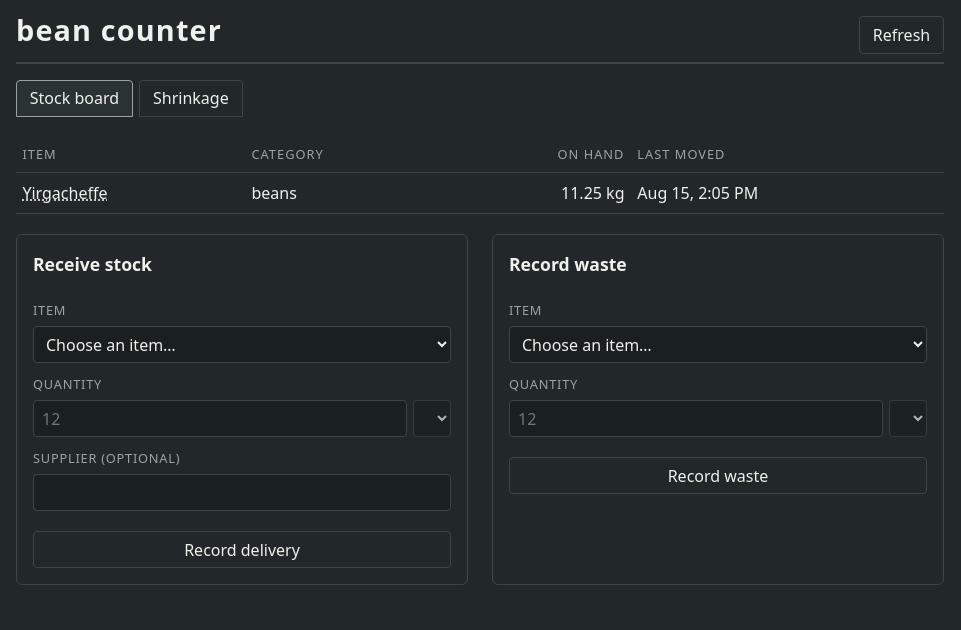
Test case: shrinkage report › treats an item with no counts as never counted, not as an error
expect the button "Yirgacheffe" is shown: met, box [22, 181, 108, 205]
What coordinates should you click on to do the following:
click the tab "Shrinkage"
I would click on:
 (191, 98)
Its box is [139, 80, 242, 117].
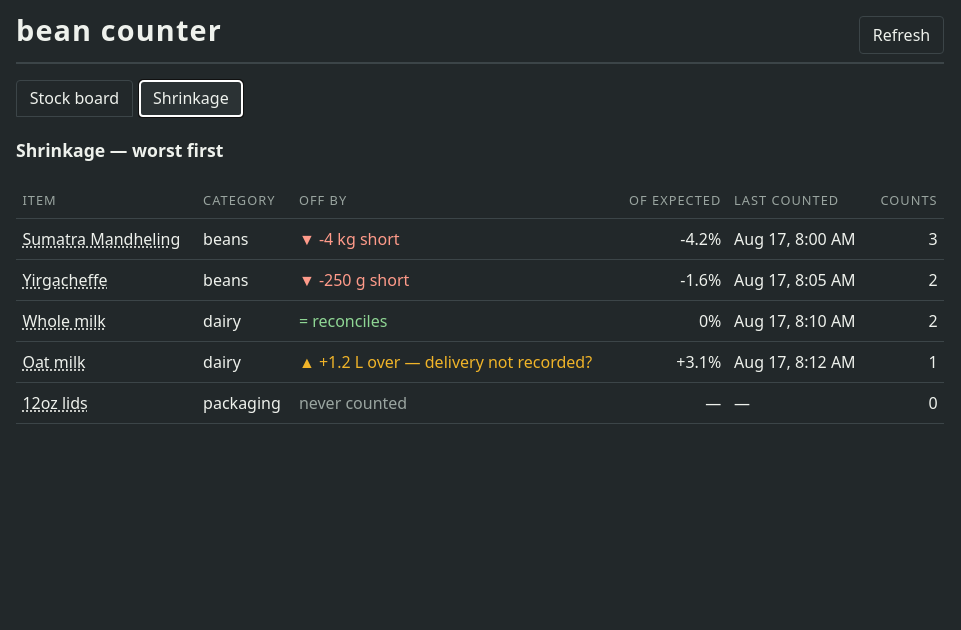
expect the table is shown: met, box [16, 183, 944, 424]
What coordinates should you click on to do the following:
click the button "12oz lids"
I would click on:
 (55, 403)
Its box is [22, 391, 88, 415].
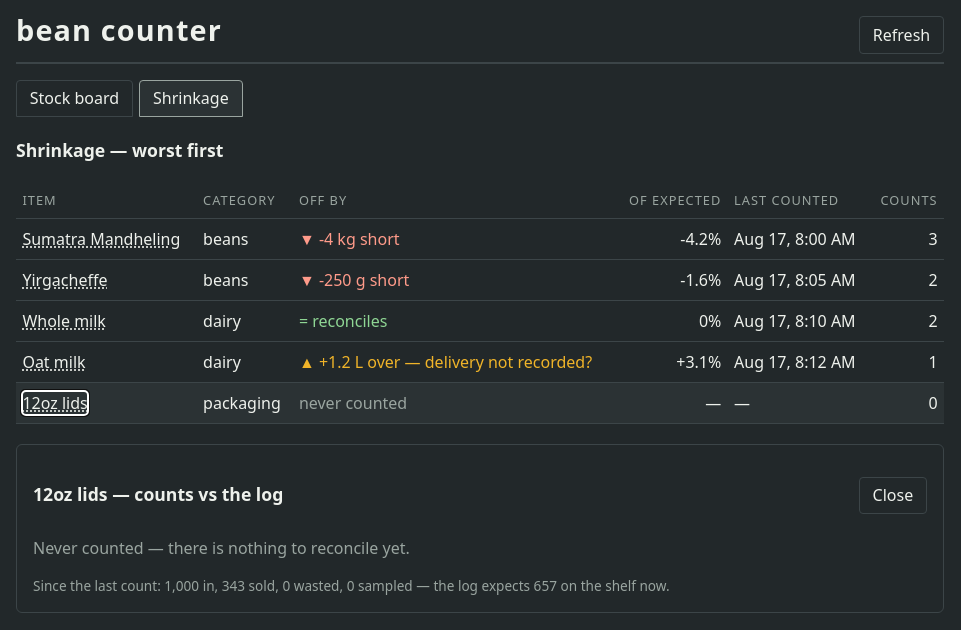
expect the text "Never counted — there is nothing to reconcile yet." is shown: met, box [33, 537, 410, 559]
